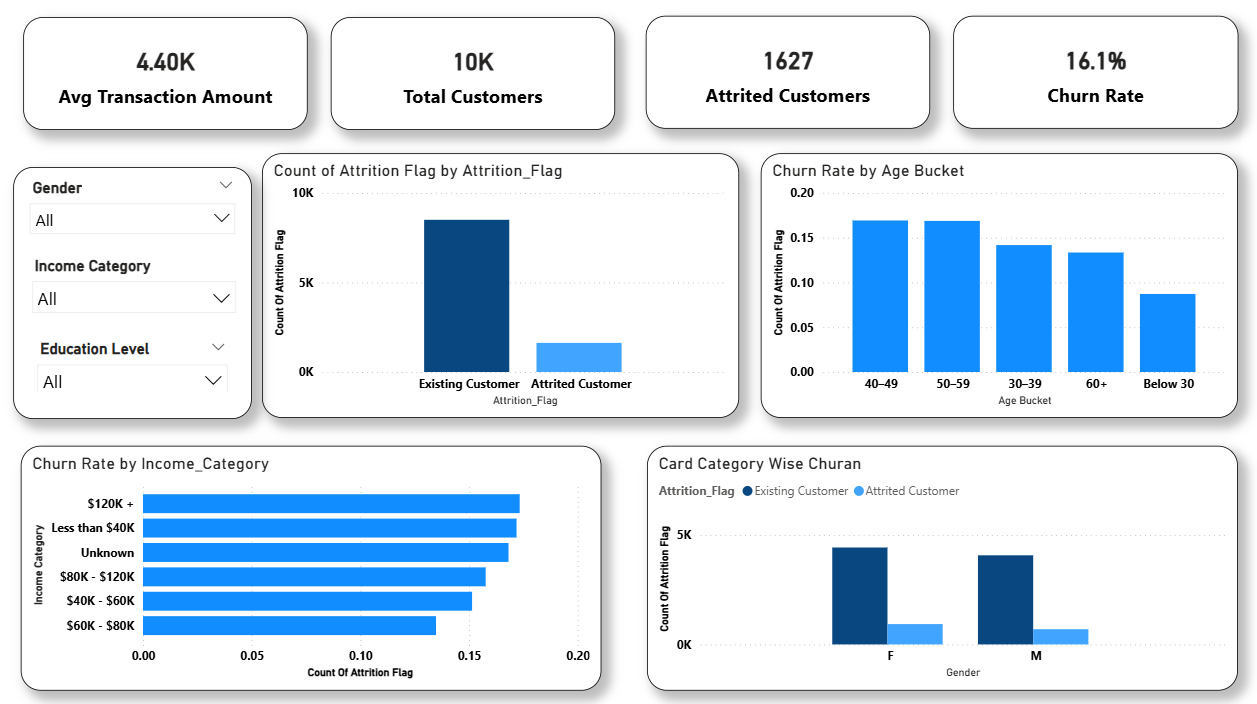

The page's visual inventory and layout, read from the dashboard file:
{"tool":"powerbi","page":{"name":"Page 1","canvas":[1280,720],"ordinal":0},"visuals":[{"type":"card","fields":{"Values":["BankChurners (1).Total Customers"]},"box":[338.6,20,287.9,114.3],"z":0},{"type":"clusteredColumnChart","fields":{"Category":["BankChurners (1).Attrition_Flag"],"Y":["CountNonNull(BankChurners (1).Attrition_Flag)"]},"box":[268.3,158.3,483.3,268.3],"z":1000},{"type":"clusteredColumnChart","fields":{"Category":["BankChurners (1).Age Bucket"],"Y":["BankChurners (1).Churn Rate"]},"box":[773.3,158.3,483.3,268.3],"z":2000},{"type":"slicer","fields":{"Values":["BankChurners (1).Gender"]},"box":[16.7,171.7,241.7,255],"z":3000},{"type":"slicer","fields":{"Values":["BankChurners (1).Income_Category"]},"box":[25,258.3,226.7,68.3],"z":4000},{"type":"slicer","fields":{"Values":["BankChurners (1).Education_Level"]},"box":[24.6,335.4,226.2,66.2],"z":5000},{"type":"clusteredBarChart","fields":{"Y":["BankChurners (1).Churn Rate"],"Category":["BankChurners (1).Income_Category"]},"box":[24,454,588,248],"z":6000},{"type":"card","fields":{"Values":["BankChurners (1).Attrited Customers"]},"box":[657.1,18.6,287.9,114.3],"z":7000},{"type":"card","fields":{"Values":["BankChurners (1).Churn Rate"]},"box":[968.6,18.6,288.6,114.3],"z":8000},{"type":"clusteredColumnChart","title":"Card Category Wise Churan","fields":{"Category":["BankChurners (1).Gender"],"Y":["CountNonNull(BankChurners (1).Attrition_Flag)"],"Series":["BankChurners (1).Attrition_Flag"]},"box":[658,454,598,248],"z":9000},{"type":"card","fields":{"Values":["Avg(BankChurners (1).Total_Trans_Amt)"]},"box":[26,20,288,114],"z":10000}]}

Visuals, with their boxes in screenshot pixels (x1, y1, x2, y2), scaled from the page's 1280x720 canvas onto the 1257x704 screenshot:
card - BankChurners (1).Total Customers: pyautogui.locateOnScreen(333, 20, 615, 131)
clusteredColumnChart - BankChurners (1).Attrition_Flag x CountNonNull(BankChurners (1).Attrition_Flag): pyautogui.locateOnScreen(263, 155, 738, 417)
clusteredColumnChart - BankChurners (1).Age Bucket x BankChurners (1).Churn Rate: pyautogui.locateOnScreen(759, 155, 1234, 417)
slicer - BankChurners (1).Gender: pyautogui.locateOnScreen(16, 168, 254, 417)
slicer - BankChurners (1).Income_Category: pyautogui.locateOnScreen(25, 253, 247, 319)
slicer - BankChurners (1).Education_Level: pyautogui.locateOnScreen(24, 328, 246, 393)
clusteredBarChart - BankChurners (1).Churn Rate x BankChurners (1).Income_Category: pyautogui.locateOnScreen(24, 444, 601, 686)
card - BankChurners (1).Attrited Customers: pyautogui.locateOnScreen(645, 18, 928, 130)
card - BankChurners (1).Churn Rate: pyautogui.locateOnScreen(951, 18, 1235, 130)
"Card Category Wise Churan" clusteredColumnChart: pyautogui.locateOnScreen(646, 444, 1233, 686)
card - Avg(BankChurners (1).Total_Trans_Amt): pyautogui.locateOnScreen(26, 20, 308, 131)
